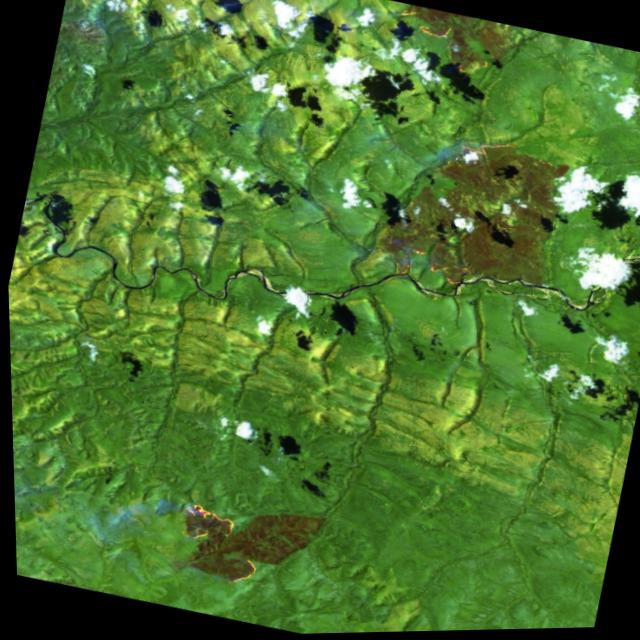fire: (354, 221, 486, 301), (370, 0, 500, 80), (430, 124, 531, 182)
